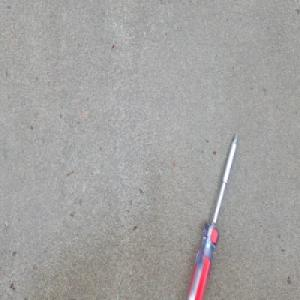Screwdriver: (184, 129, 240, 300)
